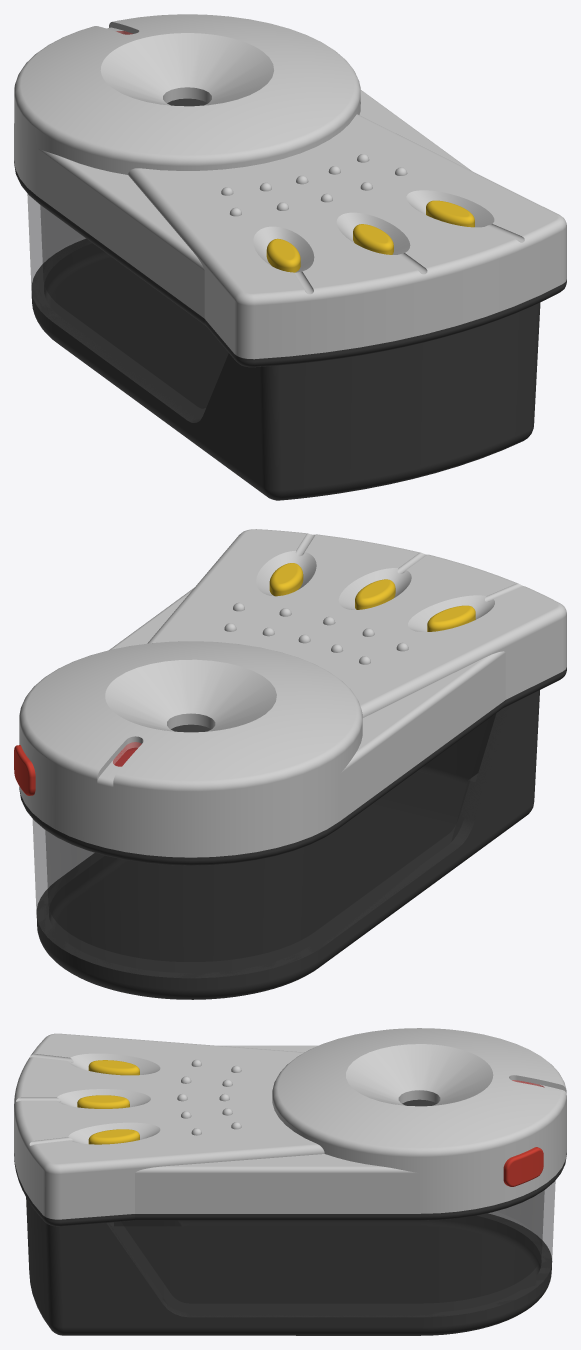
File: sharpener3D.glb
3 renders of one model, top to bottom at view 1: azimuth 30°, elevation 25°; view 2: azimuth 150°, elevation 25°; view 3: azimuth 270°, elevation 25°, orthographic. The views are drawn at different scales.
Visible parts, largest first — view 1: body1, body3, dustcase, body2, SW3, SW2, SW1; view 2: body1, body3, dustcase, body2, SW2, SW1, SW3, SW; view 3: body1, body3, dustcase, body2, SW, SW1, SW3, SW2.
Part boxes in pixels (box(x1,y1,x2,y2)): body1: box(14, 14, 566, 359); body3: box(31, 239, 540, 500); dustcase: box(27, 194, 228, 422); body2: box(14, 98, 566, 367); SW3: box(266, 238, 300, 272); SW2: box(353, 224, 393, 254); SW1: box(426, 200, 474, 227); body1: box(19, 529, 566, 857); body3: box(36, 690, 539, 999); dustcase: box(33, 705, 509, 977); body2: box(19, 667, 566, 865); SW2: box(355, 579, 395, 609); SW1: box(269, 563, 303, 596); SW3: box(427, 605, 475, 631); SW: box(14, 745, 35, 795); body1: box(14, 1028, 566, 1219); body3: box(26, 1197, 552, 1335); dustcase: box(107, 1181, 555, 1316); body2: box(14, 1099, 566, 1226); SW: box(503, 1147, 543, 1186); SW1: box(88, 1129, 139, 1144); SW3: box(88, 1060, 139, 1075); SW2: box(77, 1095, 129, 1108).
Bounding box in the file's own units: 0.0612 × 0.044 × 0.105.
